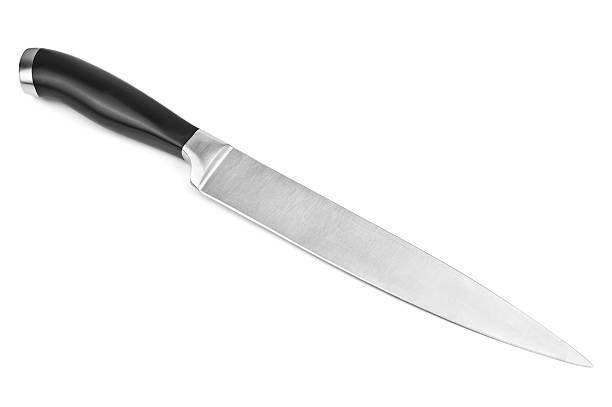k1: (111, 91, 607, 392)
